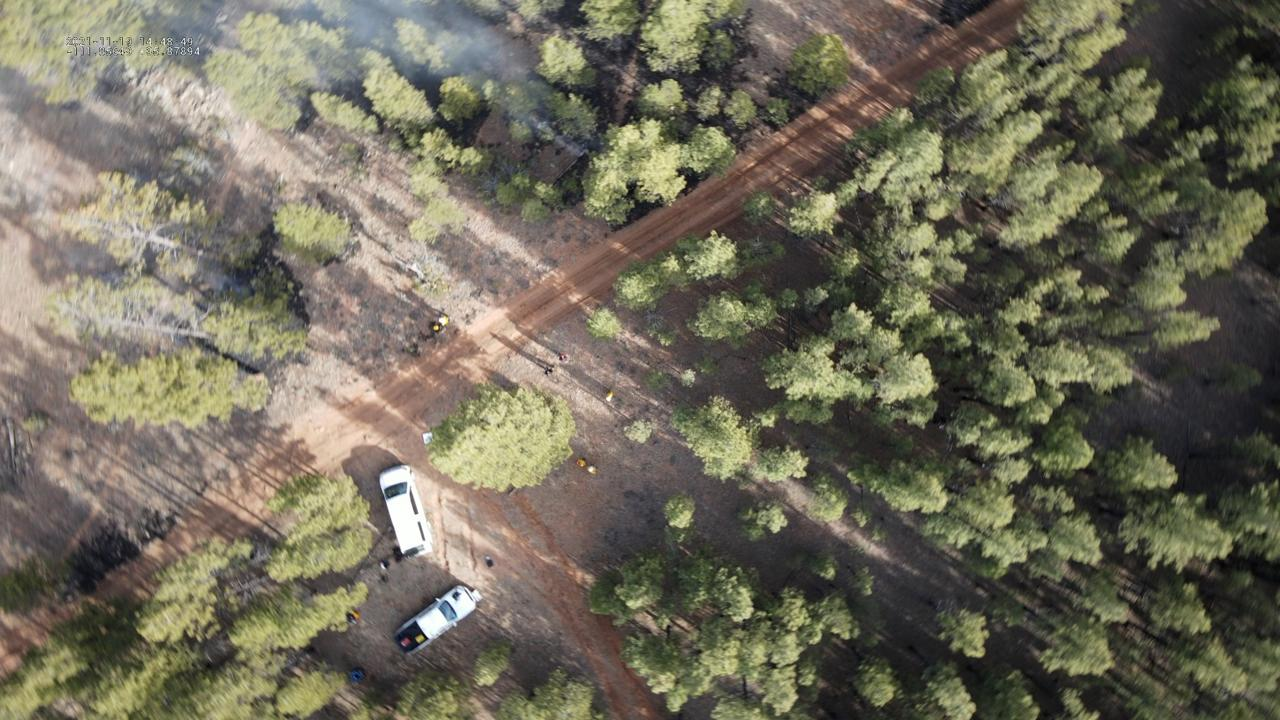smoke: (235, 0, 595, 161)
